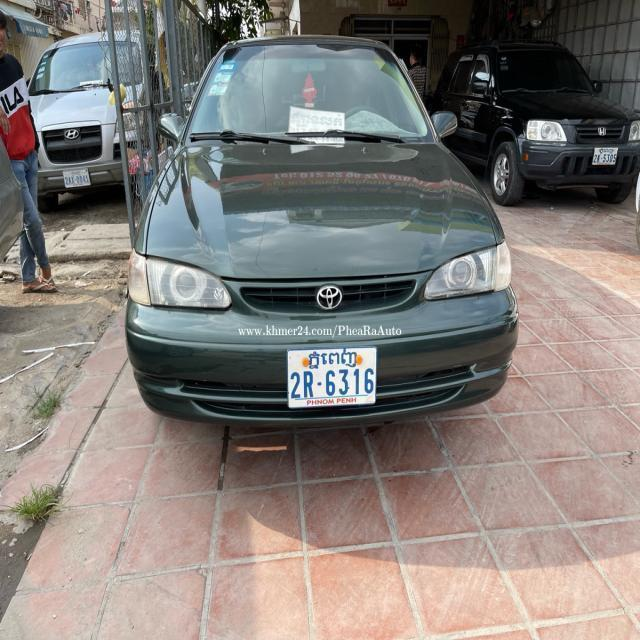Phnom_Penh: (303, 347, 358, 372)
